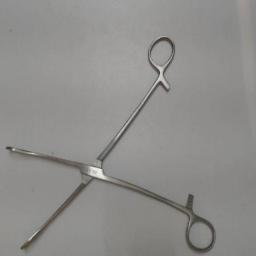Sponge Forceps: (0, 26, 218, 256)
